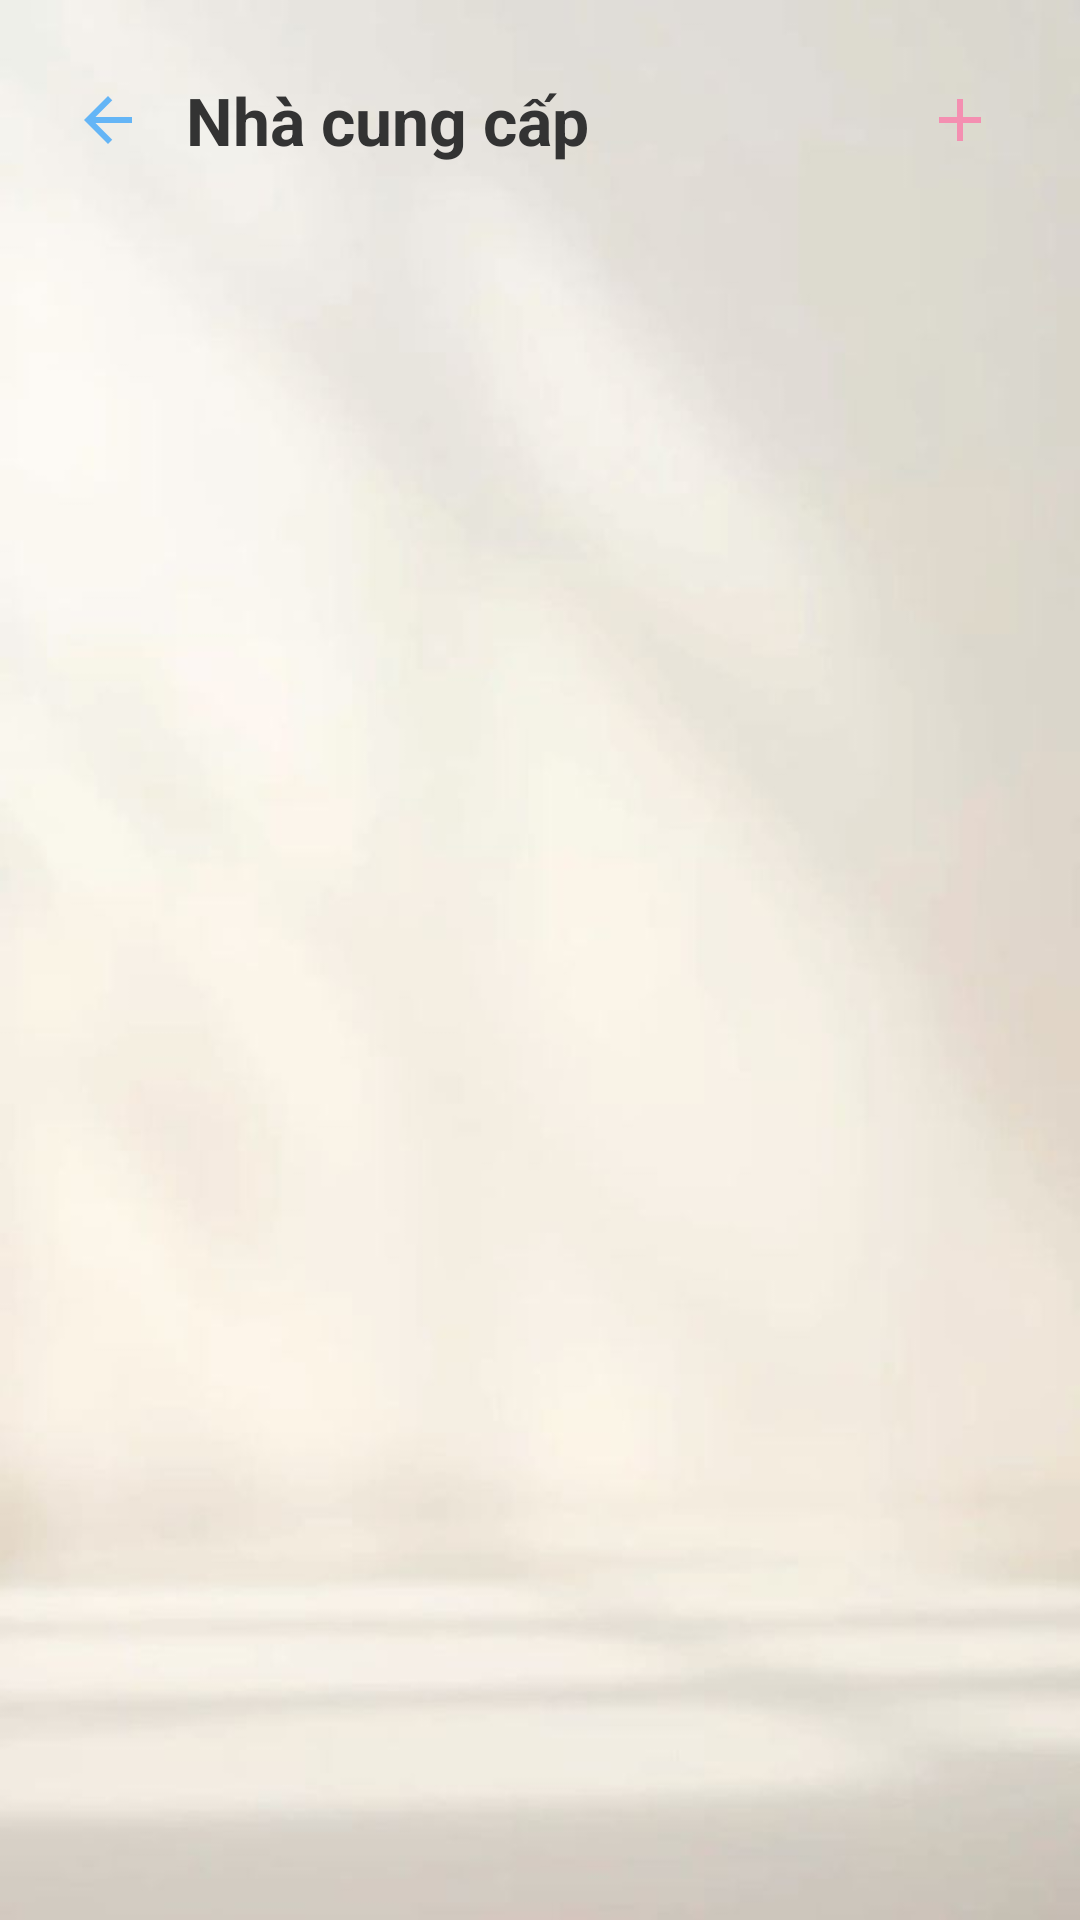

Screen size 1080×1920. Icon name, then its center in pixels as point (x, y):
back: point (108, 120)
plus: point (960, 120)
